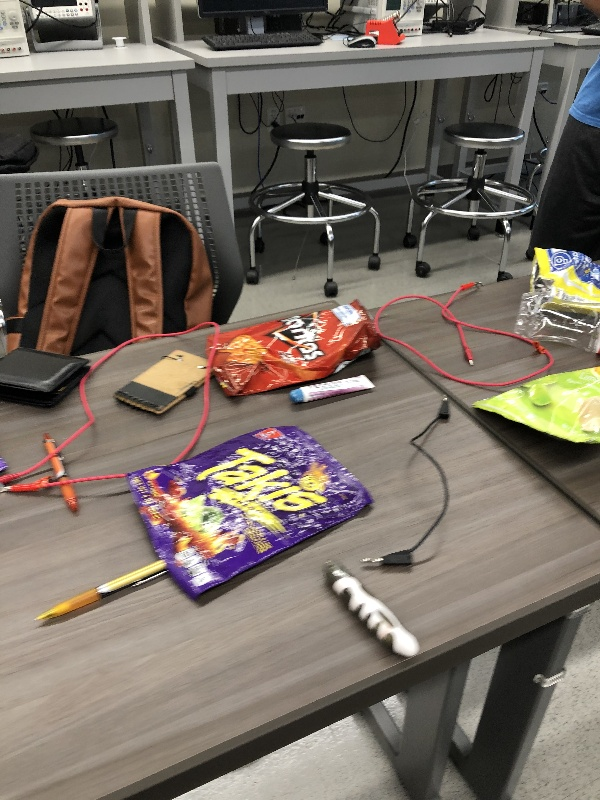bag: (124, 421, 379, 608), (203, 296, 385, 402), (469, 361, 600, 455), (527, 243, 600, 309)
bottle: (511, 290, 600, 362)
